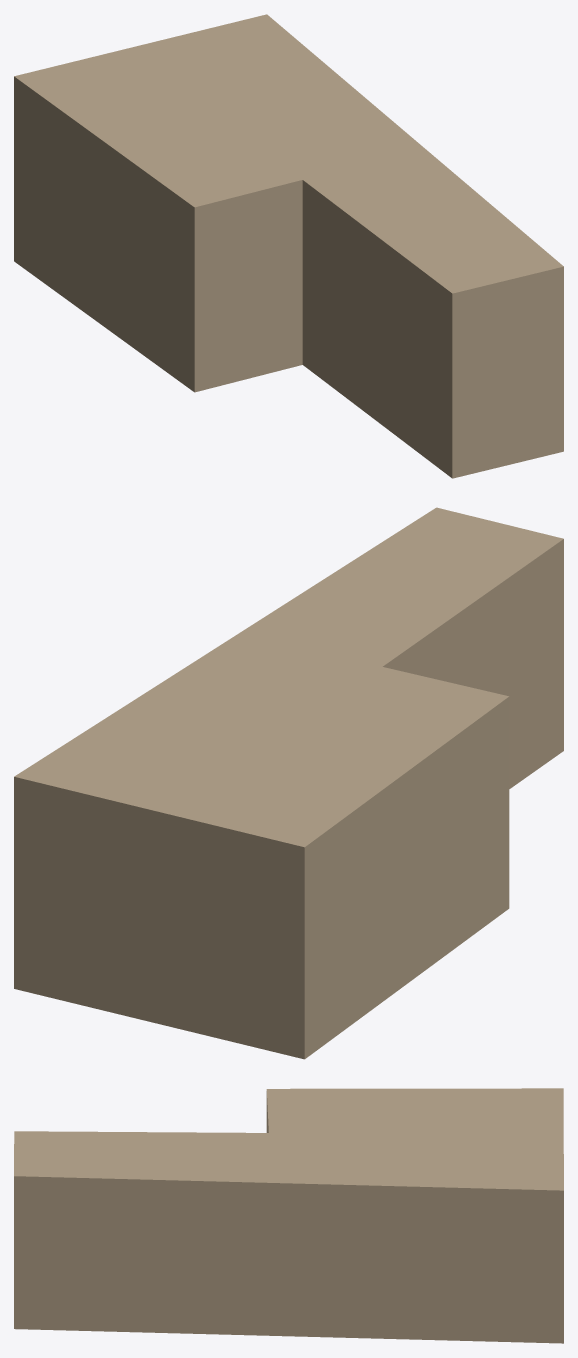
The model's file is bld_98768119.dae.
3 views of the same model, one above another, from view 1: azimuth 30°, elevation 25°; view 2: azimuth 150°, elevation 25°; view 3: azimuth 270°, elevation 25° (orthographic). The views are drawn at different scales.
Visible parts, largest first — view 1: Mitchells Jewellers; view 2: Mitchells Jewellers; view 3: Mitchells Jewellers.
Boxes of the visible parts, <box> form: Mitchells Jewellers: <box>14,14,563,478</box>; Mitchells Jewellers: <box>14,507,563,1059</box>; Mitchells Jewellers: <box>14,1088,563,1343</box>.
Bounding box in the file's own units: 11.46 × 26.07 × 8.
